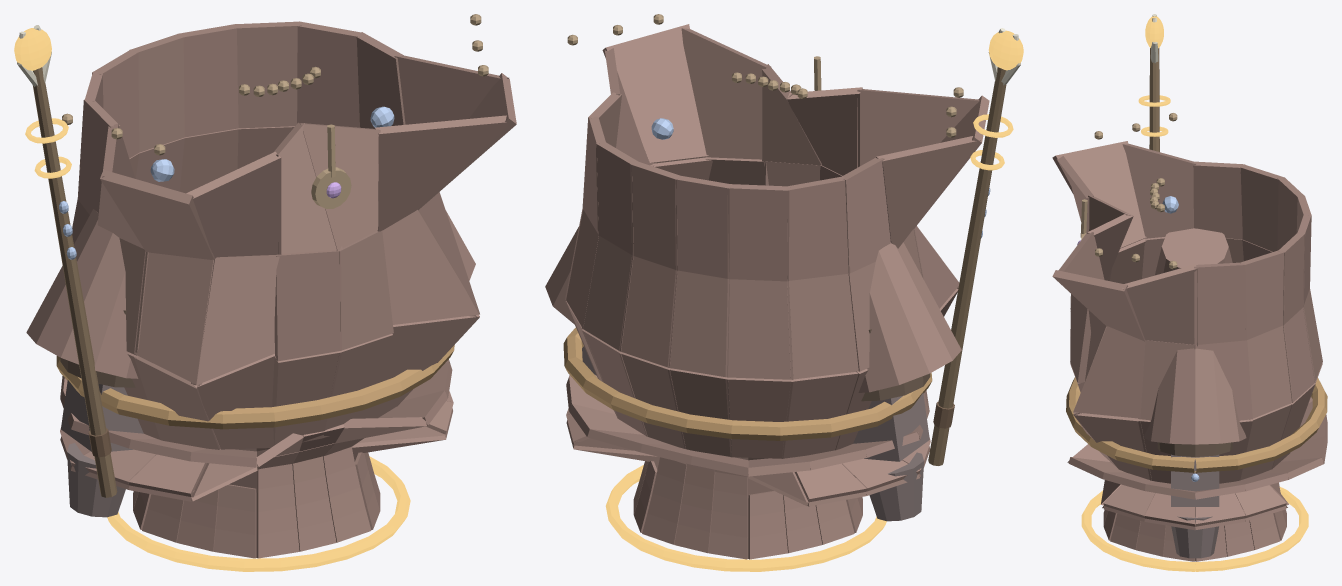
The model's file is sage_kit.glb.
The picture shows the model from 3 angles, left to right: view 1: azimuth 30°, elevation 25°; view 2: azimuth 150°, elevation 25°; view 3: azimuth 270°, elevation 25°; orthographic projection. The views are drawn at different scales.
Visible parts, largest first — view 1: Armour_Robe_cloth_sage, Armour_SleeveR_cloth_sage, Armour_Robe_trim_sage, Weapon_haft_sage, Armour_Robe_glow_sage, Acc_GloveR_cloth_sage, Acc_Amulet_metal_sage, Weapon_glow_sage, Acc_GloveR_leather_sage; view 2: Armour_Robe_cloth_sage, Armour_SleeveR_cloth_sage, Armour_Robe_trim_sage, Weapon_haft_sage, Acc_GloveR_cloth_sage, Armour_Robe_glow_sage, Weapon_glow_sage, Acc_Amulet_metal_sage, Armour_SleeveL_cloth_sage, Acc_GloveR_leather_sage; view 3: Armour_Robe_cloth_sage, Armour_SleeveL_cloth_sage, Armour_Robe_trim_sage, Armour_Robe_glow_sage, Acc_GloveL_cloth_sage, Armour_SleeveR_cloth_sage, Acc_Amulet_metal_sage, Weapon_haft_sage, Weapon_glow_sage, Acc_GloveL_leather_sage.
Part boxes in pixels (left/top/right/bottom): Armour_Robe_cloth_sage: left=60, top=21, right=516, bottom=558; Armour_SleeveR_cloth_sage: left=26, top=209, right=138, bottom=378; Armour_Robe_trim_sage: left=56, top=345, right=454, bottom=429; Weapon_haft_sage: left=32, top=67, right=117, bottom=497; Armour_Robe_glow_sage: left=107, top=456, right=410, bottom=571; Acc_GloveR_cloth_sage: left=61, top=380, right=143, bottom=517; Acc_Amulet_metal_sage: left=62, top=14, right=488, bottom=208; Weapon_glow_sage: left=14, top=28, right=71, bottom=178; Acc_GloveR_leather_sage: left=60, top=310, right=135, bottom=387; Armour_Robe_cloth_sage: left=565, top=24, right=989, bottom=559; Armour_SleeveR_cloth_sage: left=858, top=242, right=961, bottom=392; Armour_Robe_trim_sage: left=563, top=327, right=932, bottom=440; Weapon_haft_sage: left=928, top=67, right=1006, bottom=465; Acc_GloveR_cloth_sage: left=853, top=393, right=929, bottom=521; Armour_Robe_glow_sage: left=605, top=465, right=886, bottom=571; Weapon_glow_sage: left=970, top=30, right=1023, bottom=170; Acc_Amulet_metal_sage: left=567, top=14, right=963, bottom=137; Armour_SleeveL_cloth_sage: left=545, top=227, right=578, bottom=324; Acc_GloveR_leather_sage: left=861, top=329, right=930, bottom=401; Armour_Robe_cloth_sage: left=1052, top=141, right=1327, bottom=561; Armour_SleeveL_cloth_sage: left=1144, top=348, right=1246, bottom=444; Armour_Robe_trim_sage: left=1066, top=377, right=1327, bottom=472; Armour_Robe_glow_sage: left=1081, top=487, right=1308, bottom=571; Acc_GloveL_cloth_sage: left=1171, top=454, right=1219, bottom=558; Armour_SleeveR_cloth_sage: left=1155, top=228, right=1232, bottom=275; Acc_Amulet_metal_sage: left=1080, top=113, right=1177, bottom=269; Weapon_haft_sage: left=1149, top=48, right=1159, bottom=151; Weapon_glow_sage: left=1138, top=16, right=1170, bottom=136; Acc_GloveL_leather_sage: left=1157, top=442, right=1232, bottom=457.
Bounding box in the file's own units: 1.16 × 1.31 × 0.7804.
